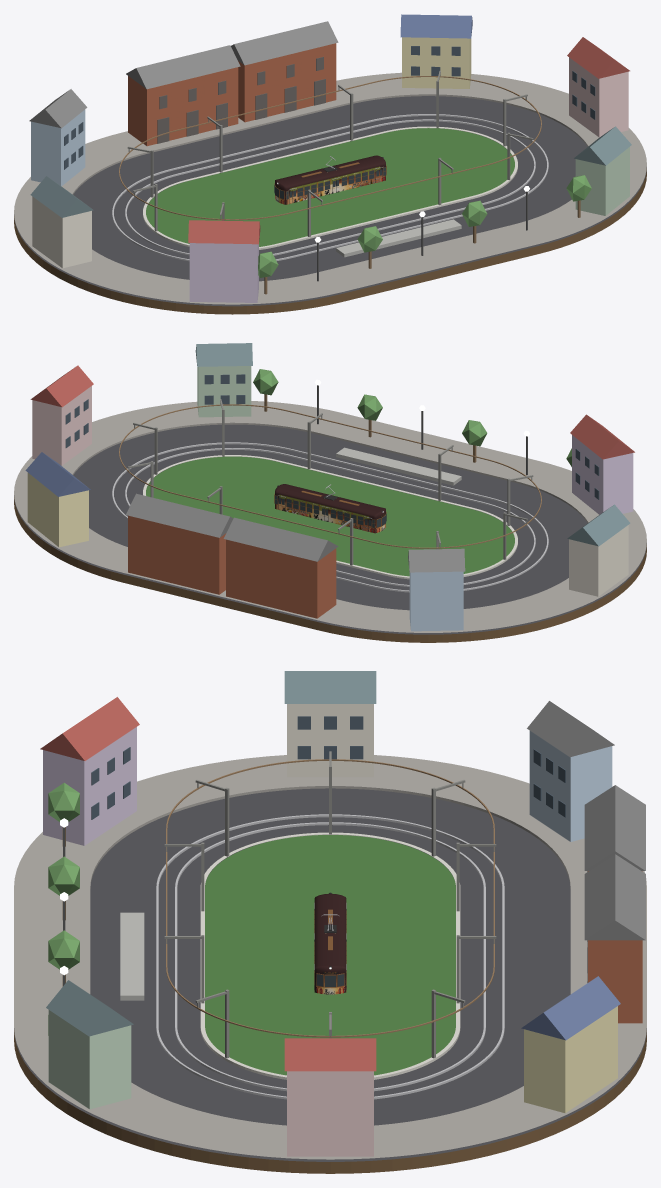
Rendered from hanamomen_mini.glb.
The picture shows the model from 3 angles, top to bottom: view 1: azimuth 30°, elevation 25°; view 2: azimuth 150°, elevation 25°; view 3: azimuth 270°, elevation 25°; orthographic projection. The views are drawn at different scales.
Visible parts, largest first — view 1: Mini_Board, Mini_Sidewalk, Mini_Grass, Mini_BrickWarehouse, Mini_BoardSide, Mini_WarehouseRoof, Mini_Rails, Mini_Houses5, Mini_Houses1, Mini_Houses2, Mini_Houses4, Mini_HouseRoofs1 (+14 smaller); view 2: Mini_Board, Mini_Sidewalk, Mini_Grass, Mini_BrickWarehouse, Mini_BoardSide, Mini_WarehouseRoof, Mini_Rails, Mini_Houses5, Mini_Houses3, Mini_Houses1, Mini_Houses2, Mini_Houses4 (+13 smaller); view 3: Mini_Board, Mini_Grass, Mini_Sidewalk, Mini_WarehouseRoof, Mini_BoardSide, Mini_Houses1, Mini_Houses2, Mini_Houses5, Mini_Rails, Mini_Houses0, Mini_HouseRoofs1, Mini_Houses3 (+12 smaller).
Part boxes in pixels (x1,y1,x2,y2): Mini_Board: (14, 96, 646, 306); Mini_Sidewalk: (14, 72, 646, 304); Mini_Grass: (146, 128, 514, 246); Mini_BrickWarehouse: (128, 43, 336, 146); Mini_BoardSide: (14, 168, 646, 314); Mini_WarehouseRoof: (126, 21, 338, 89); Mini_Rails: (112, 114, 548, 261); Mini_Houses5: (189, 243, 258, 302); Mini_Houses1: (569, 57, 628, 137); Mini_Houses2: (402, 37, 471, 88); Mini_Houses4: (32, 196, 91, 268); Mini_HouseRoofs1: (188, 37, 629, 244); Mini_Board: (14, 424, 646, 634); Mini_Sidewalk: (14, 401, 646, 632); Mini_Grass: (146, 456, 514, 576); Mini_BrickWarehouse: (128, 515, 336, 618); Mini_BoardSide: (14, 497, 646, 642); Mini_WarehouseRoof: (126, 493, 338, 561); Mini_Rails: (112, 442, 548, 592); Mini_Houses5: (572, 435, 633, 514); Mini_Houses3: (409, 571, 463, 631); Mini_Houses1: (32, 386, 91, 465); Mini_Houses2: (27, 472, 88, 547); Mini_Houses4: (569, 525, 628, 596); Mini_Board: (14, 788, 646, 1161); Mini_Grass: (205, 835, 455, 1075); Mini_Sidewalk: (14, 755, 646, 1159); Mini_WarehouseRoof: (584, 785, 645, 940); Mini_BoardSide: (14, 1030, 646, 1173); Mini_Houses1: (287, 1071, 373, 1156); Mini_Houses2: (524, 1006, 617, 1113); Mini_Houses5: (43, 727, 136, 845); Mini_Rails: (156, 814, 504, 1099); Mini_Houses0: (48, 1010, 131, 1109); Mini_HouseRoofs1: (40, 697, 376, 1071); Mini_Houses3: (529, 731, 612, 841).
Size of the model in its own units: 0.88 by 0.1238 by 0.58.
34 materials, 1 textured.
